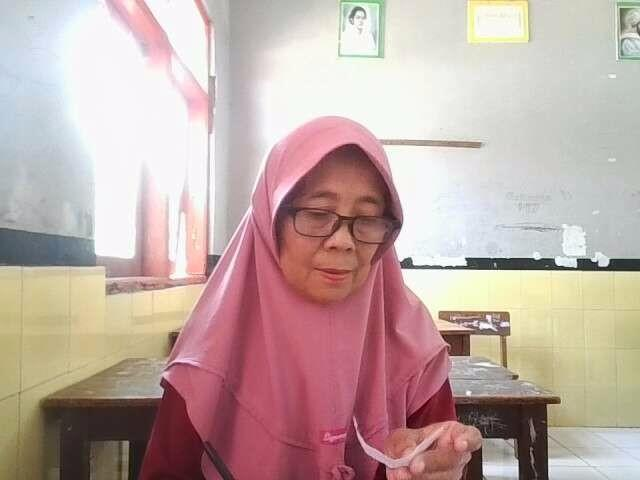good: (117, 102, 504, 480)
